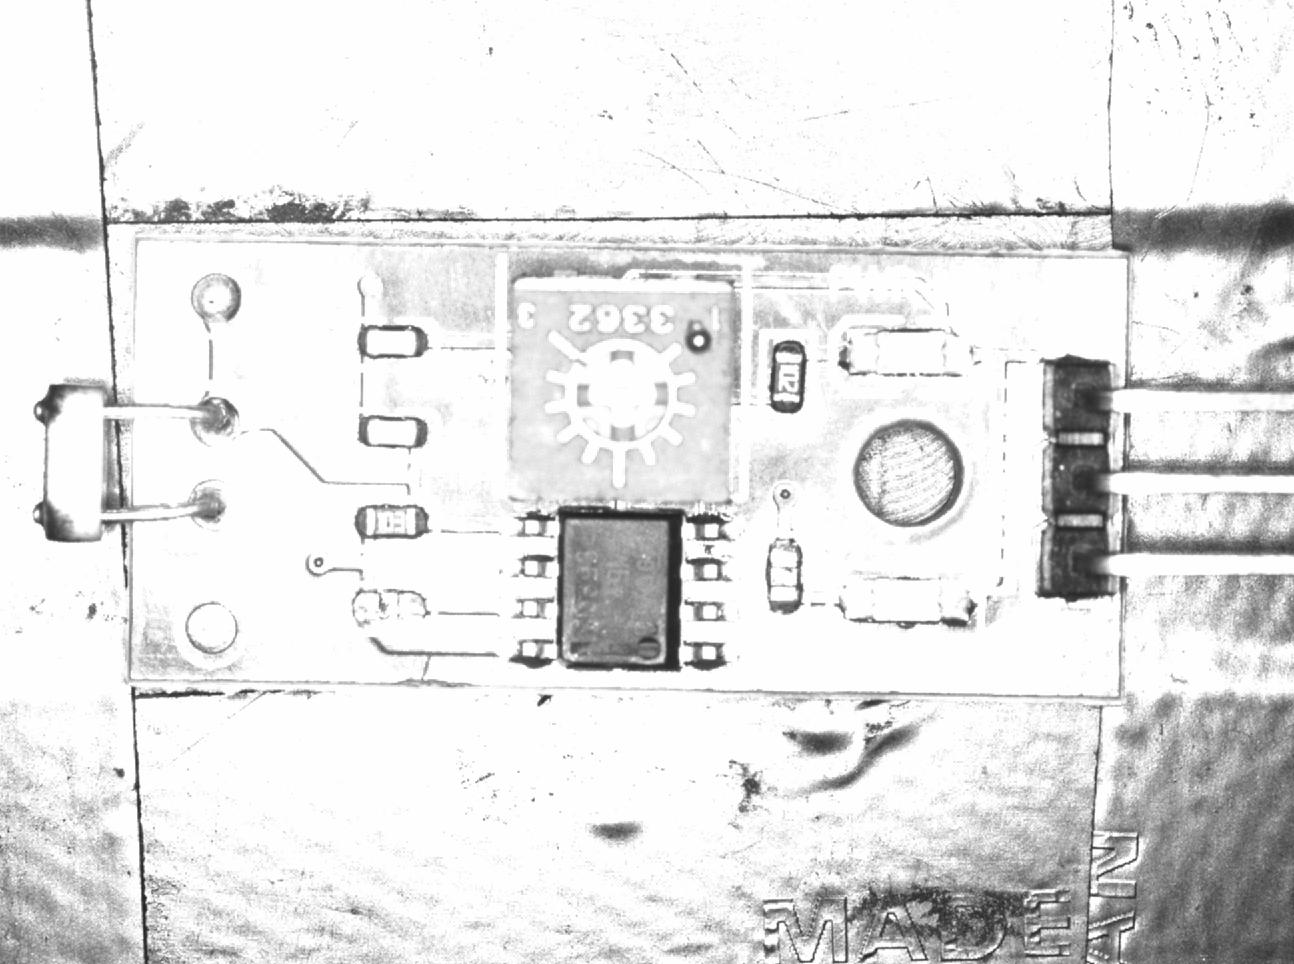miss: (343, 579, 435, 634)
ok: (758, 530, 813, 625), (764, 330, 815, 424), (346, 498, 438, 550), (349, 315, 439, 368), (353, 406, 438, 458)
